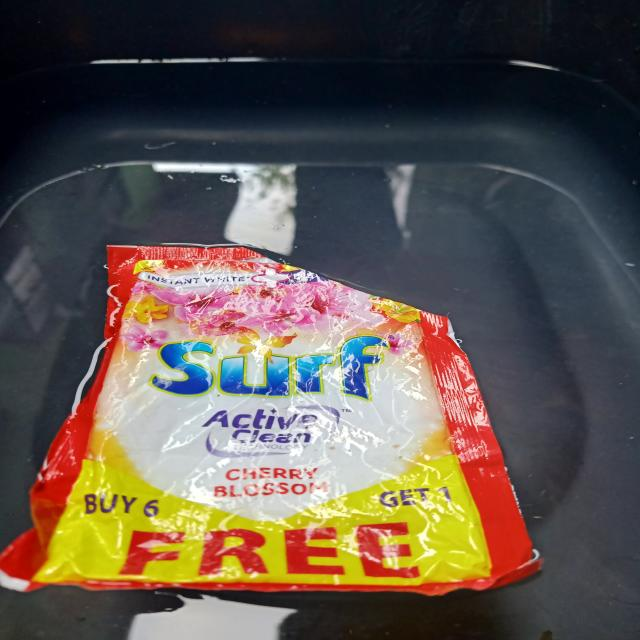Plastic Wrapper: (0, 245, 541, 595)
